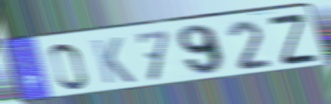0: (49, 42, 88, 92)
2: (227, 19, 275, 72)
7: (134, 28, 172, 83)
9: (178, 23, 228, 77)
K: (89, 36, 138, 86)
Z: (266, 11, 321, 68)
